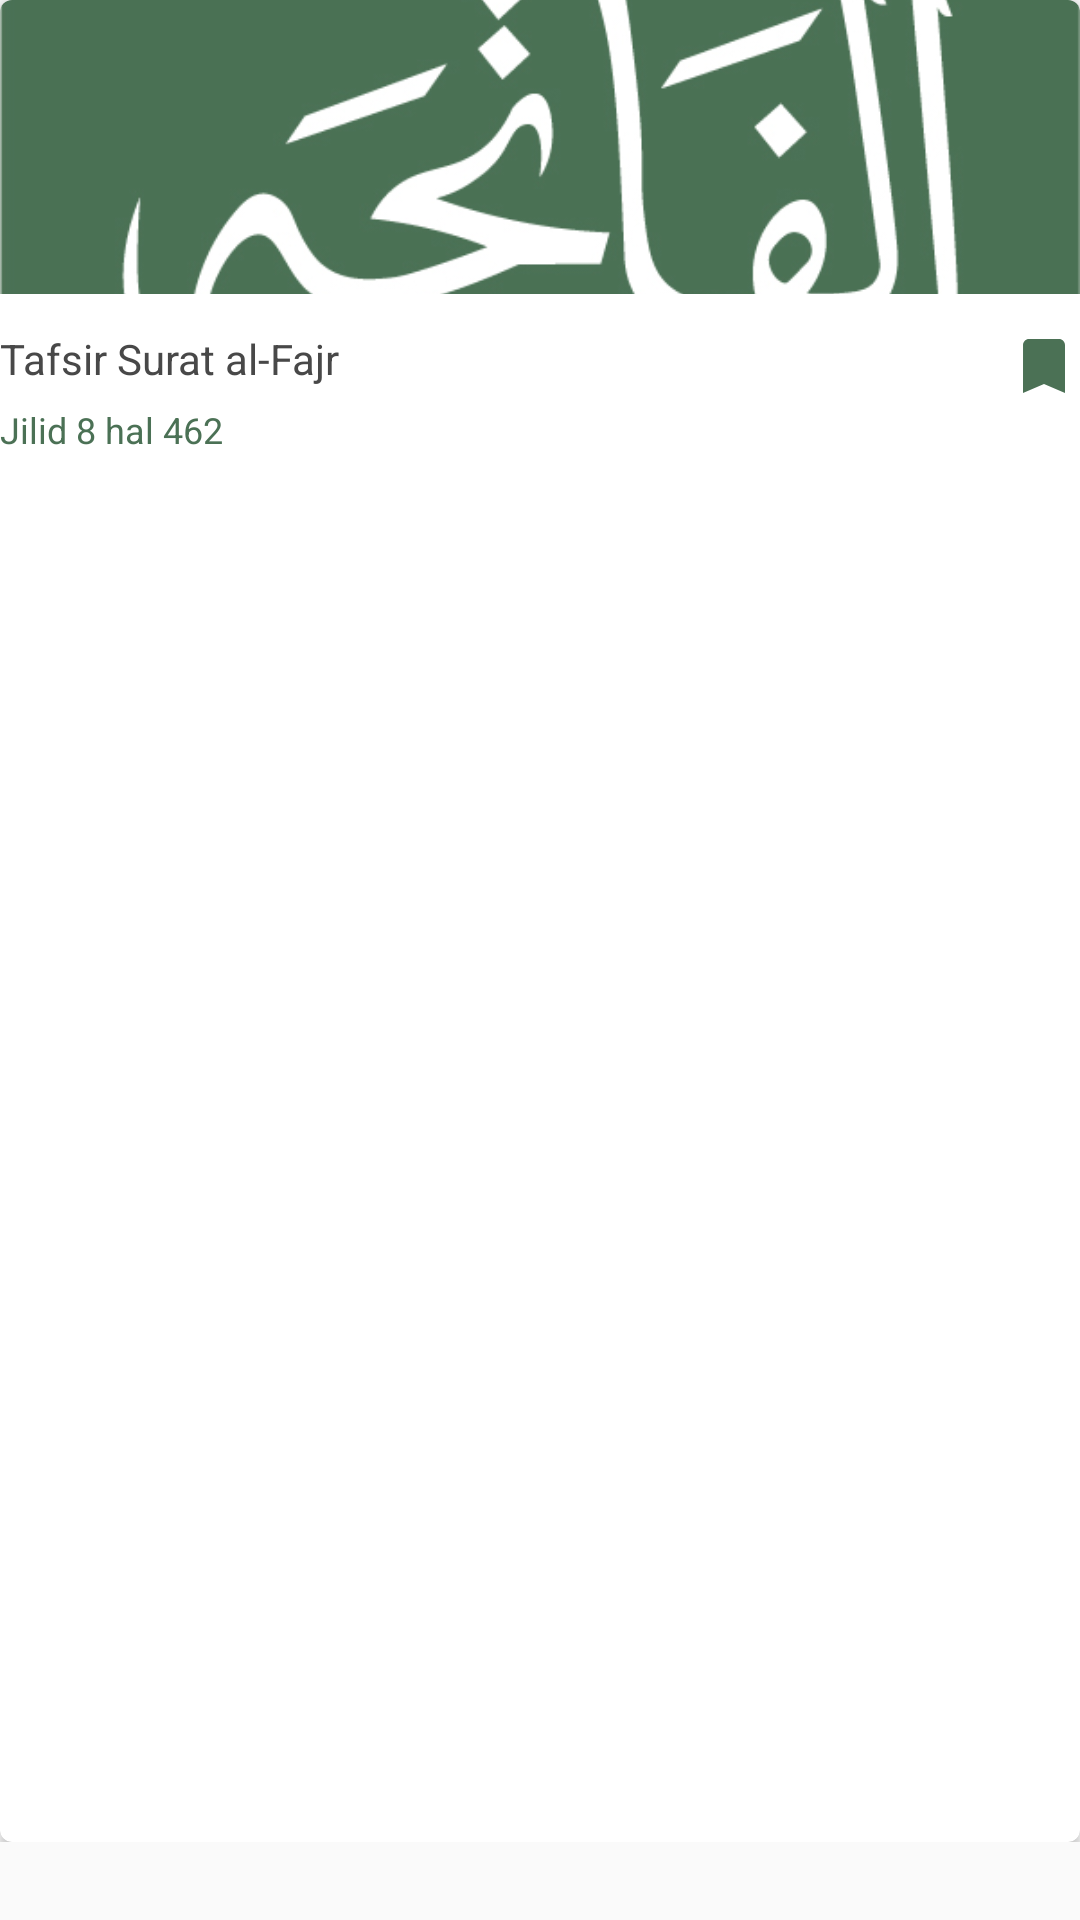

Screen size 1080 × 1920. Icon name, then its box in pixels as (x1, y1, x2, y2):
bookmark: (1023, 339, 1065, 393)
